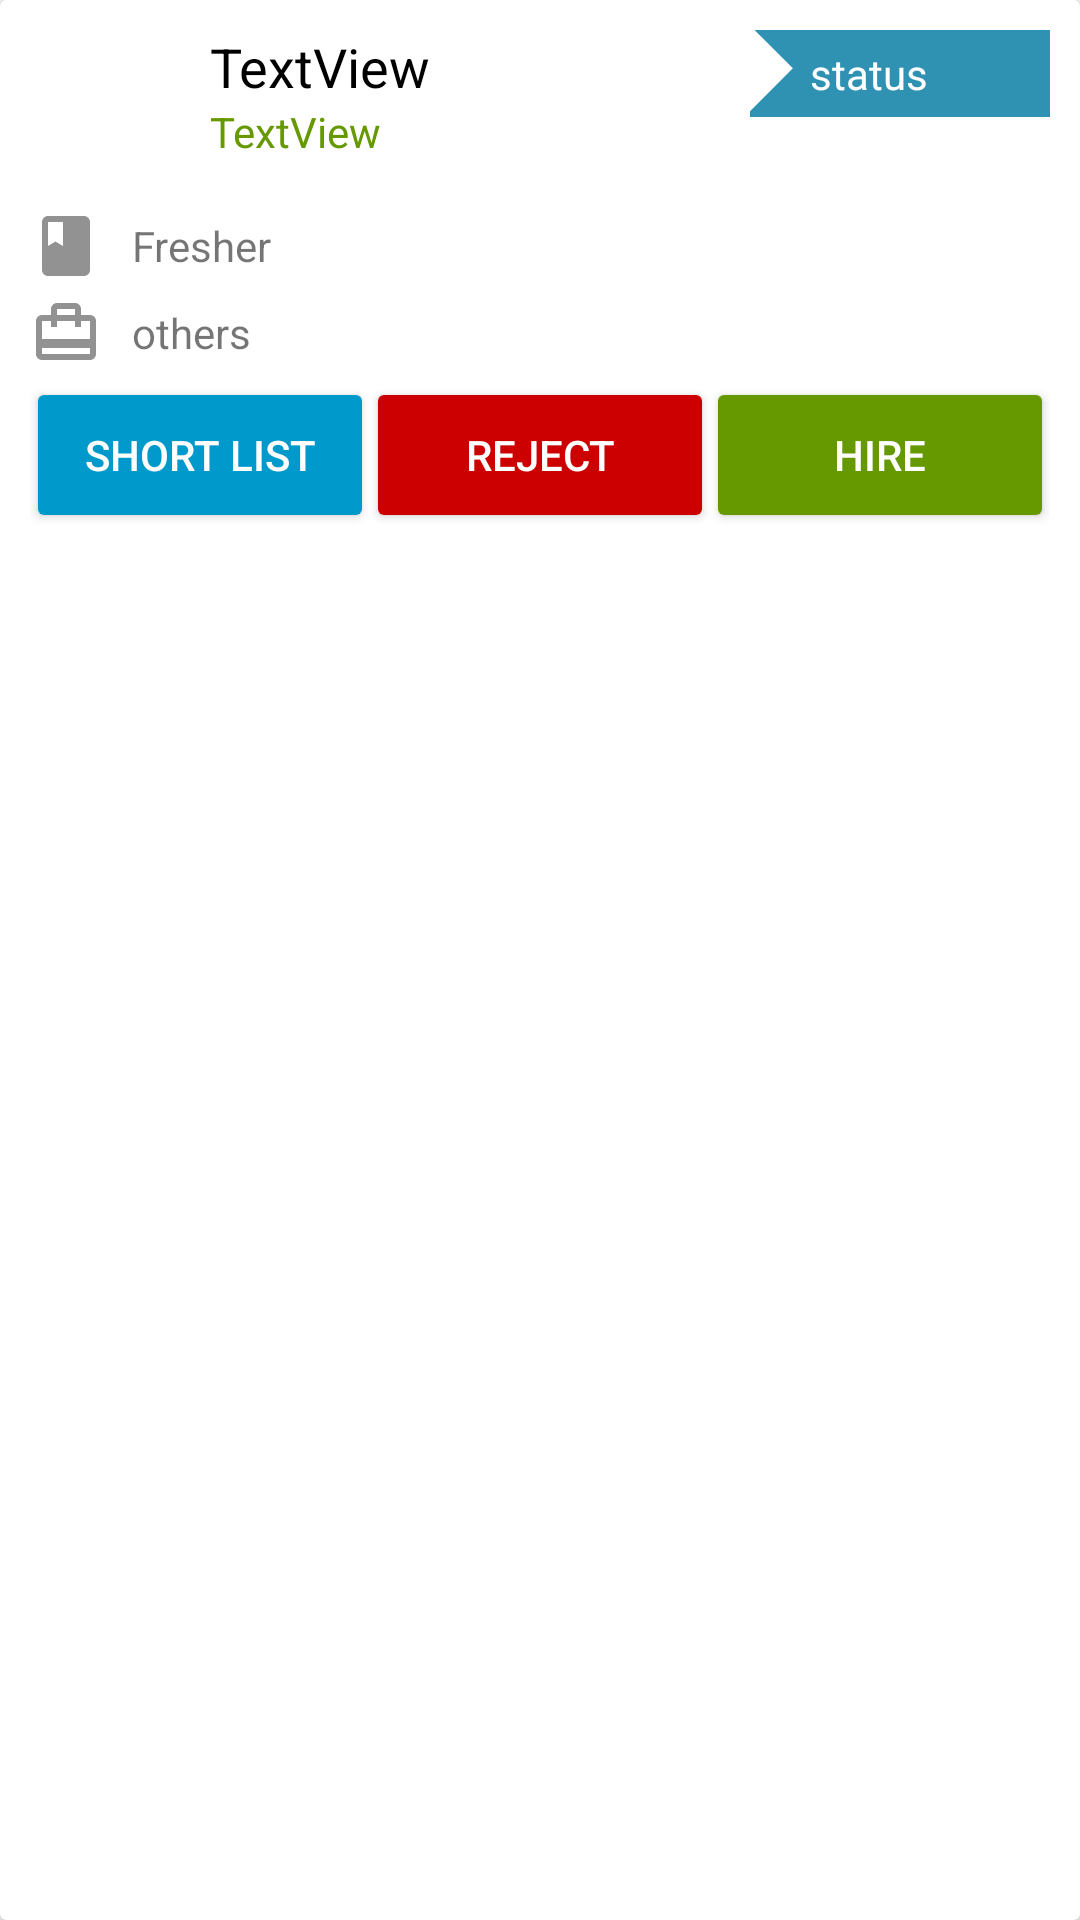

Point at icon controls on the screen. Image size 1080px×1920px, points as (x,y).
book: (66,246)
card travel: (66,331)
